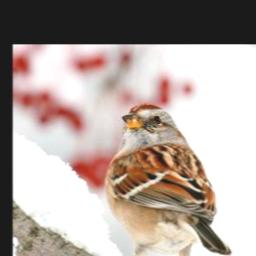Sparrow: (103, 102, 232, 256)
